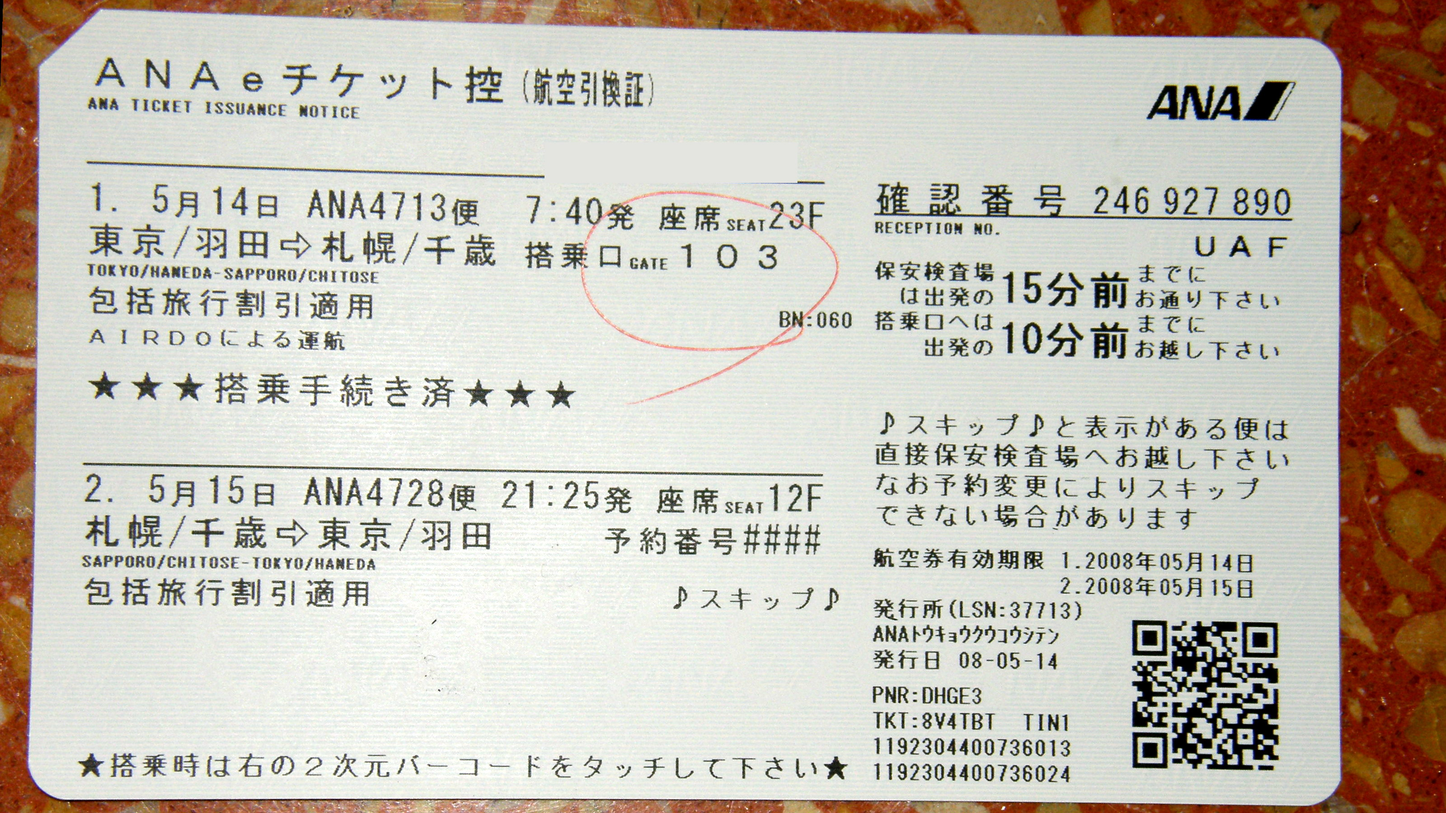QR-CODE: (1132, 620, 1278, 770)
